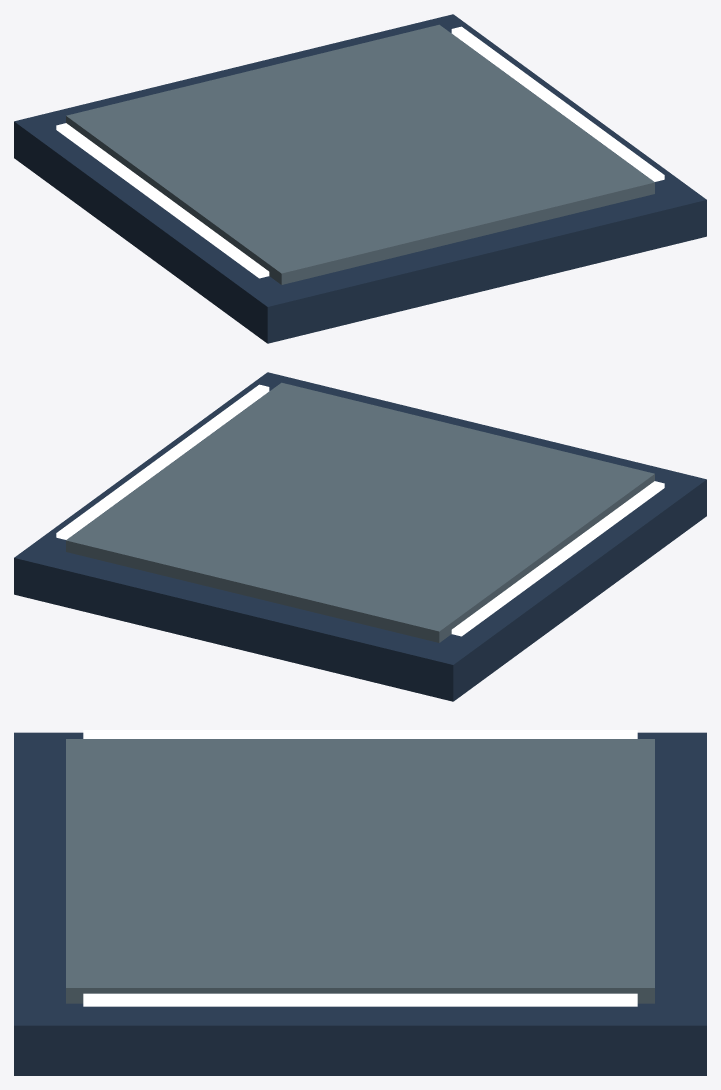
Rendered from architecture-scifi-floor.lod0.glb.
The picture shows the model from 3 angles, top to bottom: view 1: azimuth 30°, elevation 25°; view 2: azimuth 150°, elevation 25°; view 3: azimuth 270°, elevation 25°; orthographic projection. The views are drawn at different scales.
Parts seen in each view (by area): view 1: architecture-scifi-floor__body; view 2: architecture-scifi-floor__body; view 3: architecture-scifi-floor__body.
Boxes of the visible parts, bbox=[...] form: architecture-scifi-floor__body: bbox=[14, 14, 706, 343]; architecture-scifi-floor__body: bbox=[14, 372, 706, 701]; architecture-scifi-floor__body: bbox=[14, 730, 706, 1075].
Size of the model in its own units: 2 by 0.21 by 2.
